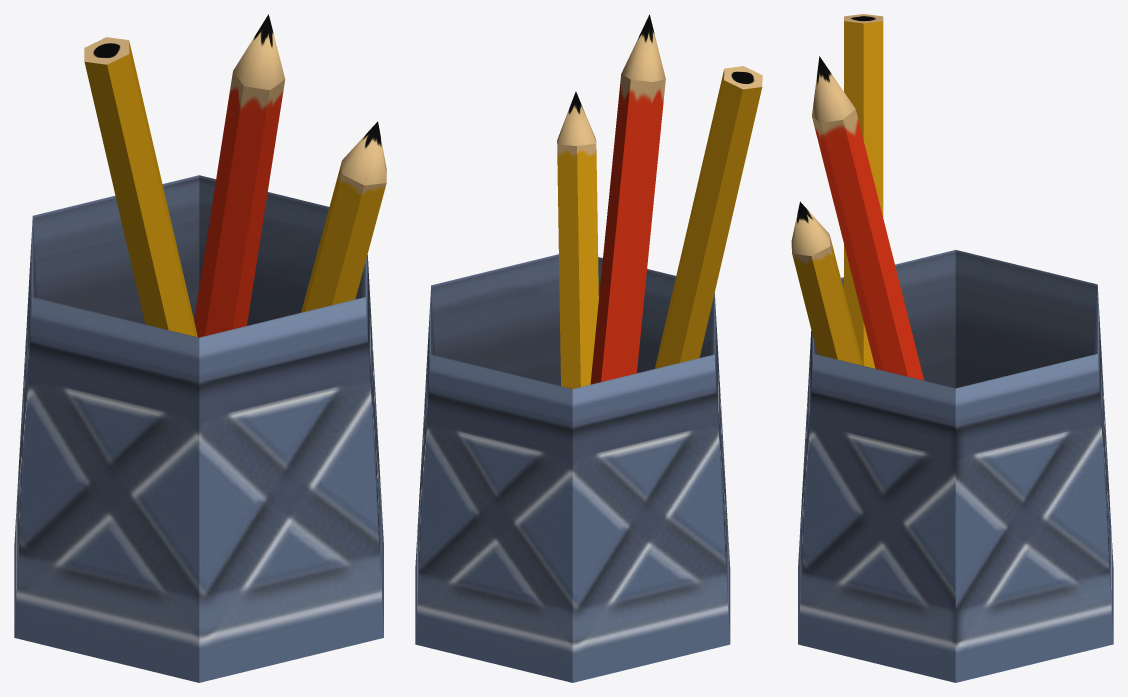
Rendered from desk_acc2.fbx.
The picture shows the model from 3 angles, left to right: view 1: azimuth 30°, elevation 25°; view 2: azimuth 150°, elevation 25°; view 3: azimuth 270°, elevation 25°; orthographic projection. The views are drawn at different scales.
Parts seen in each view (by area): view 1: desk_acc2; view 2: desk_acc2; view 3: desk_acc2.
Part boxes in pixels (x1,y1,x2,y2): desk_acc2: [14, 14, 386, 682]; desk_acc2: [415, 14, 762, 682]; desk_acc2: [791, 14, 1113, 682].
Size of the model in its own units: 1.61 by 2.67 by 1.43.
